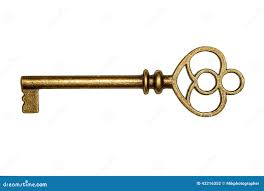key: (11, 43, 250, 123)
